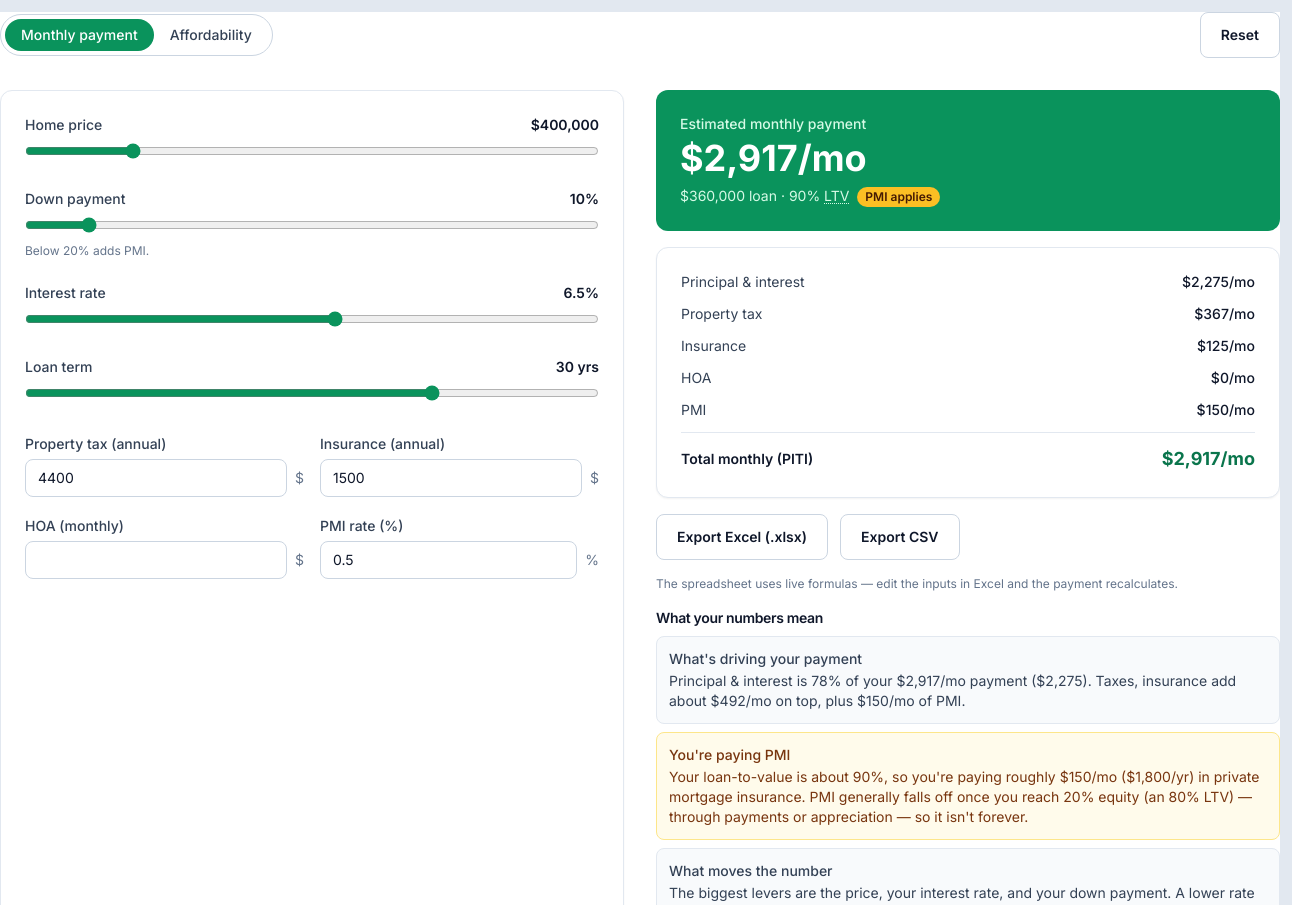
Test: BudgetCalculator › shows an inline validation message for an out-of-range input but STILL computes
PMI rate hard max is 5% → 99 is out of range.
Replace the text in the number field labelled "PMI rate (%)" with "99" at (449, 560), box [320,541,577,579]
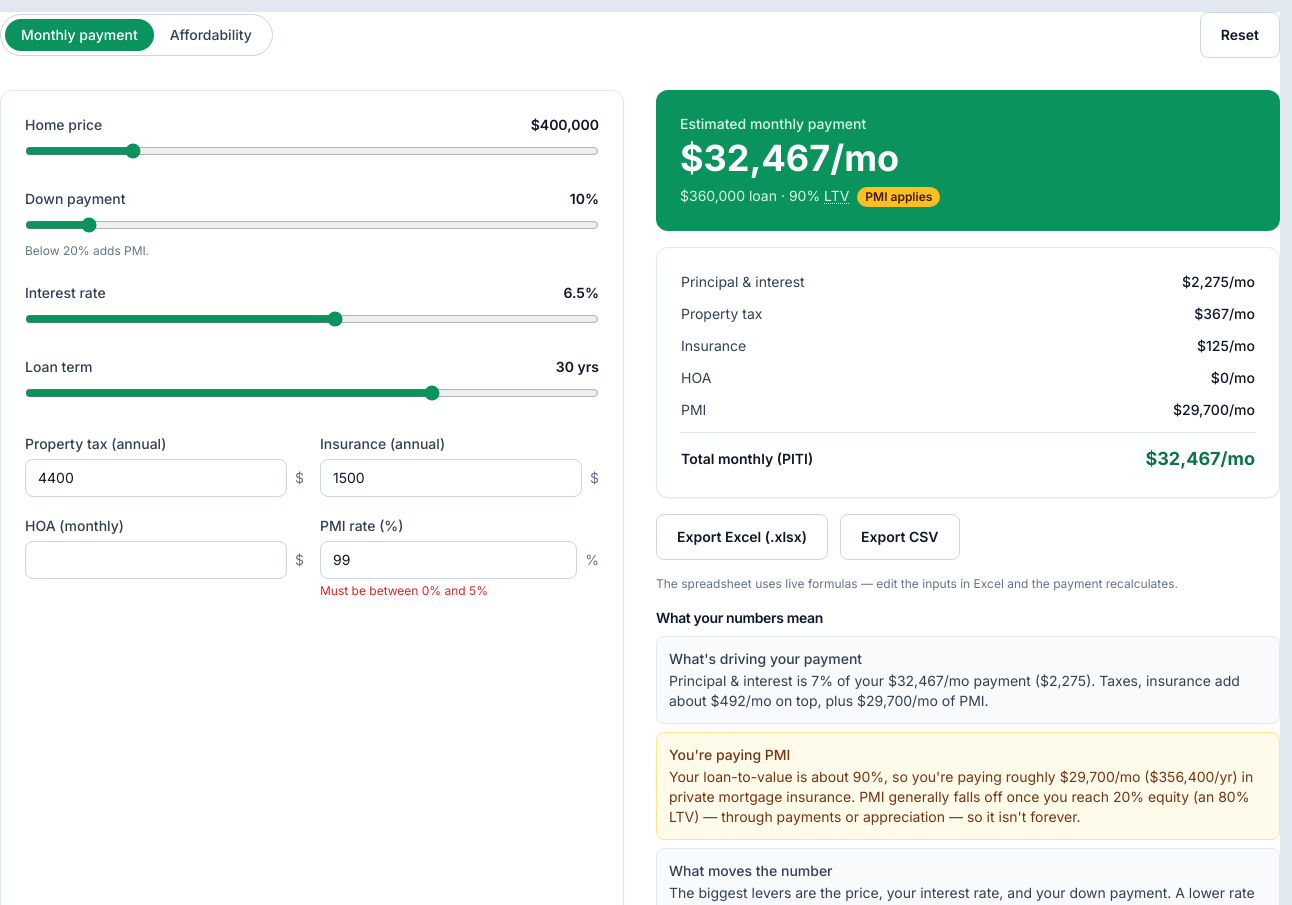
Check: the text with test id "piti-total" shows "/mo", box [680,136,899,180]
Check: the text "Must be between 0% and 5%" is shown, box [320,583,488,598]
